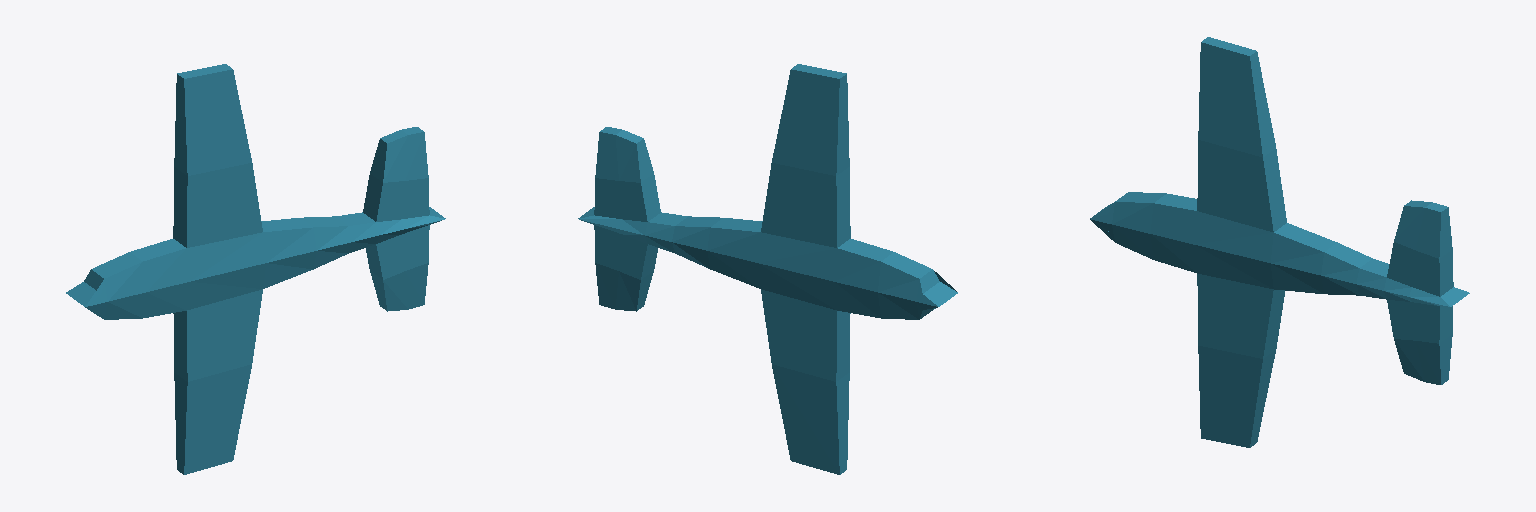
Rendered from loader.obj.
The picture shows the model from 3 angles: view 1: azimuth 30°, elevation 25°; view 2: azimuth 150°, elevation 25°; view 3: azimuth 330°, elevation 25°; orthographic projection.
Parts seen in each view (by area): view 1: pCube1; view 2: pCube1; view 3: pCube1.
Boxes of the visible parts, x1,y1,x2,y2 form: pCube1: [66, 64, 445, 474]; pCube1: [578, 64, 957, 474]; pCube1: [1090, 37, 1469, 447].
Bounding box in the file's own units: 1.88 × 1.97 × 0.1772.